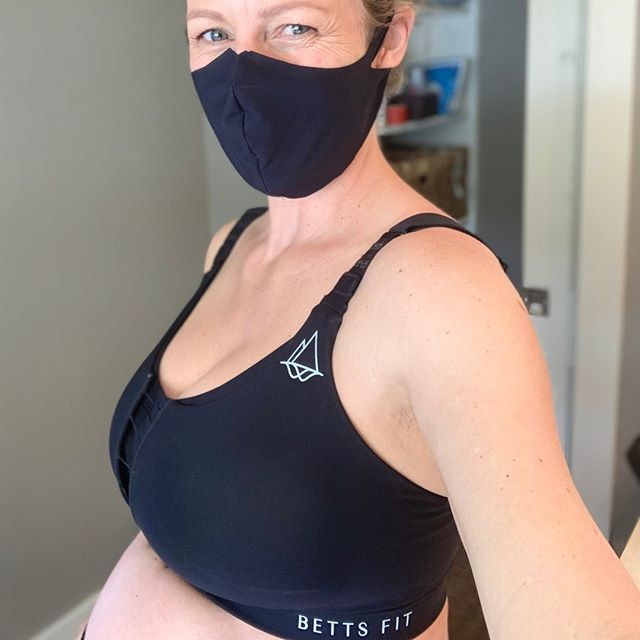homemade: (192, 46, 389, 196)
